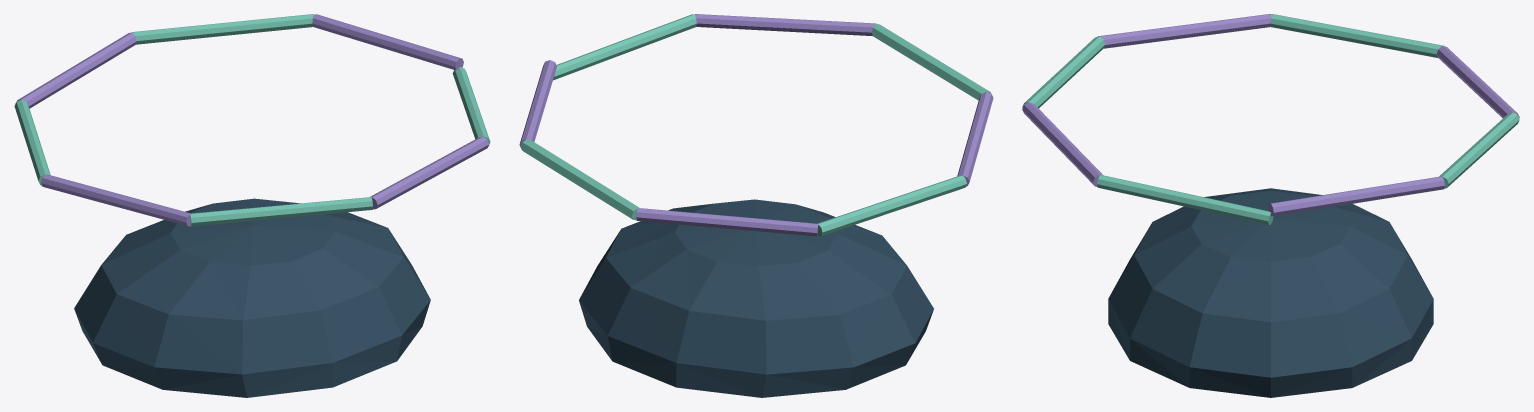
Rendered from aurorahalo.glb.
3 views of the same model, side by side, from view 1: azimuth 30°, elevation 25°; view 2: azimuth 150°, elevation 25°; view 3: azimuth 270°, elevation 25° (orthographic).
Parts seen in each view (by area): view 1: Aurora Halo.002; view 2: Aurora Halo.002; view 3: Aurora Halo.002.
Part boxes in pixels (bbox=[...]): Aurora Halo.002: bbox=[14, 14, 490, 397]; Aurora Halo.002: bbox=[519, 14, 993, 397]; Aurora Halo.002: bbox=[1022, 14, 1519, 397].
Bounding box in the file's own units: 0.782 × 0.3856 × 0.782.
